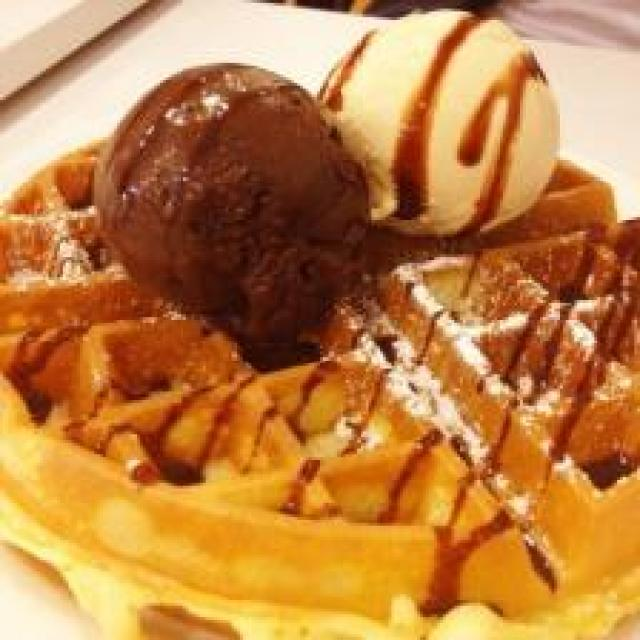Waffles: (0, 134, 640, 640)
